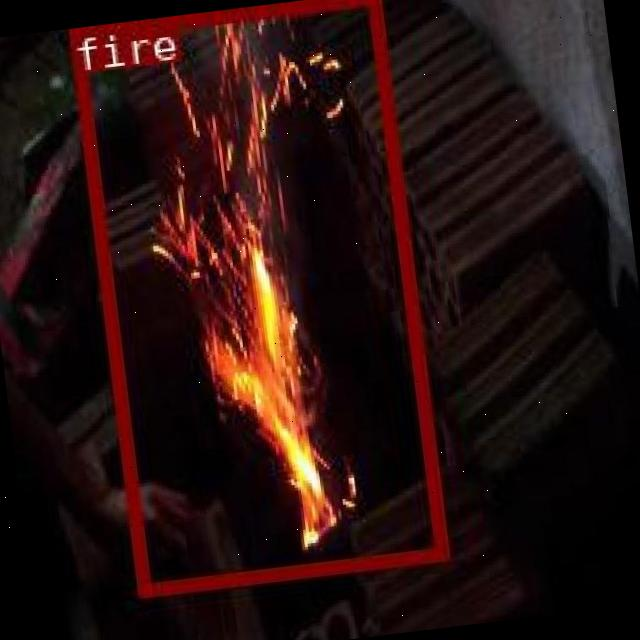fire: (66, 0, 445, 593)
